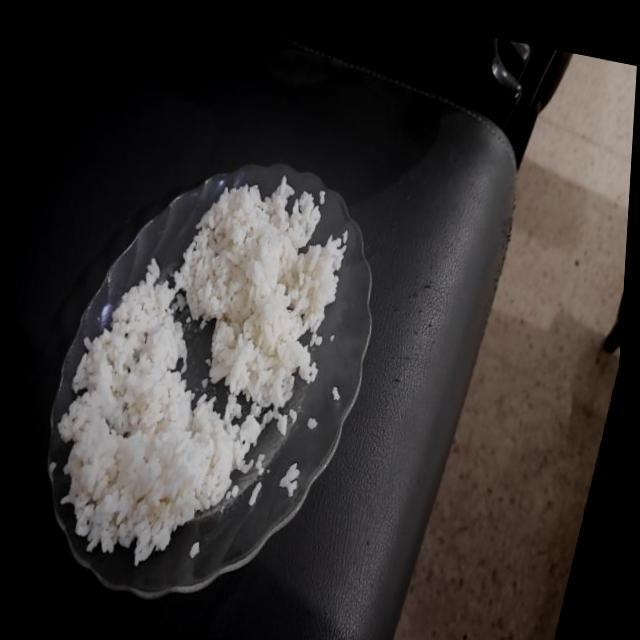nasi_putih: (58, 258, 240, 564), (174, 176, 347, 412)
